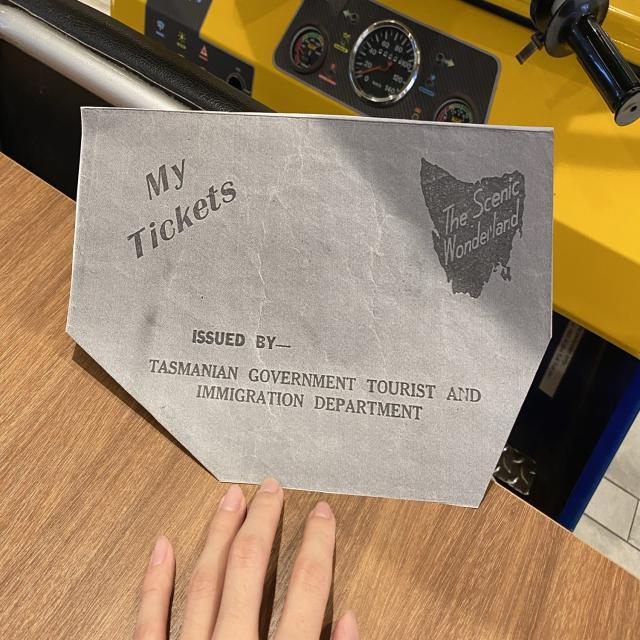document: (68, 108, 552, 507)
